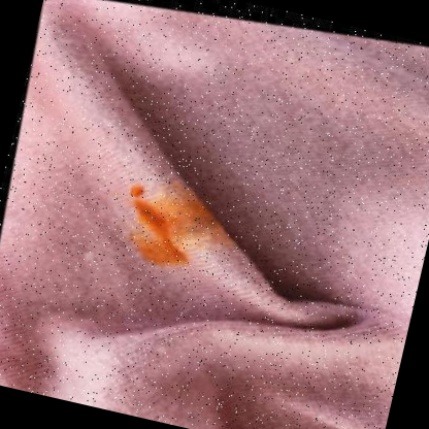kimchi: (107, 181, 221, 275)
